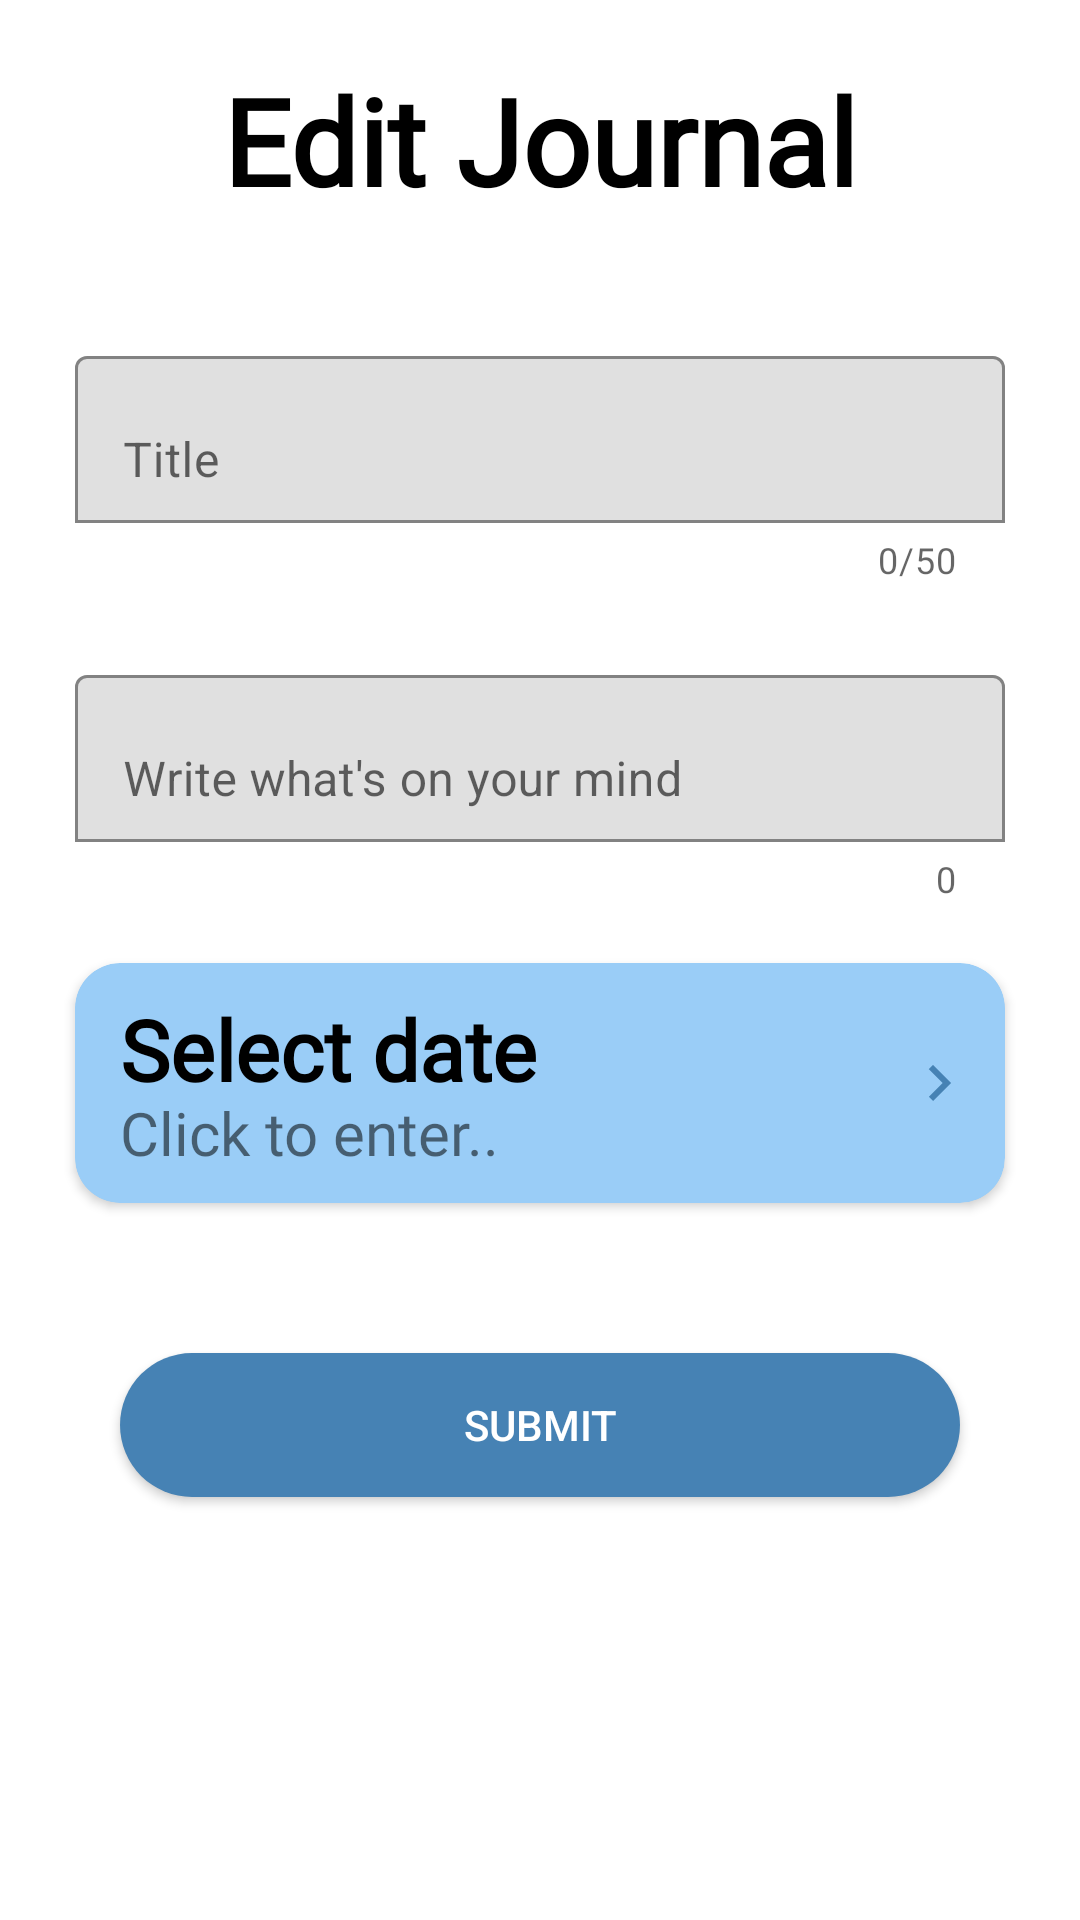

Where icons sit on this 1080w x 1920h app screen, as {"x1": x1, "y1": y1, "x2": x2, "y2": y2}:
keyboard arrow right: {"x1": 929, "y1": 1065, "x2": 951, "y2": 1101}
